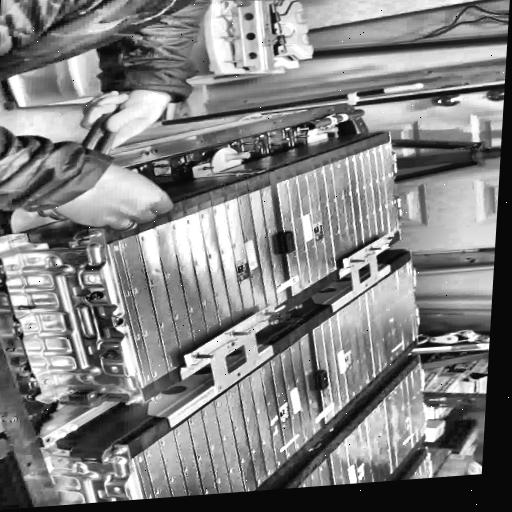battery_module: (106, 186, 287, 389), (132, 334, 323, 499), (275, 142, 401, 297), (312, 261, 418, 424)
